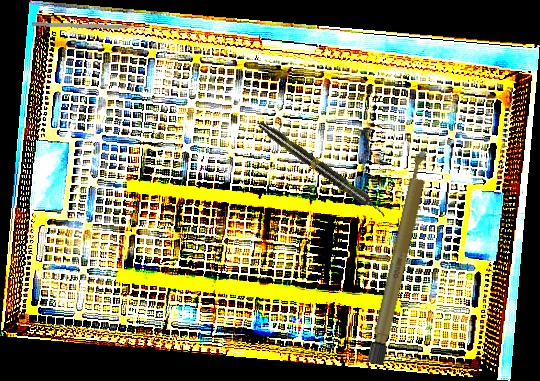Chopper: (31, 22, 146, 36)
Handpiece: (255, 118, 390, 221)
Scalpel Handle: (366, 147, 434, 366)
